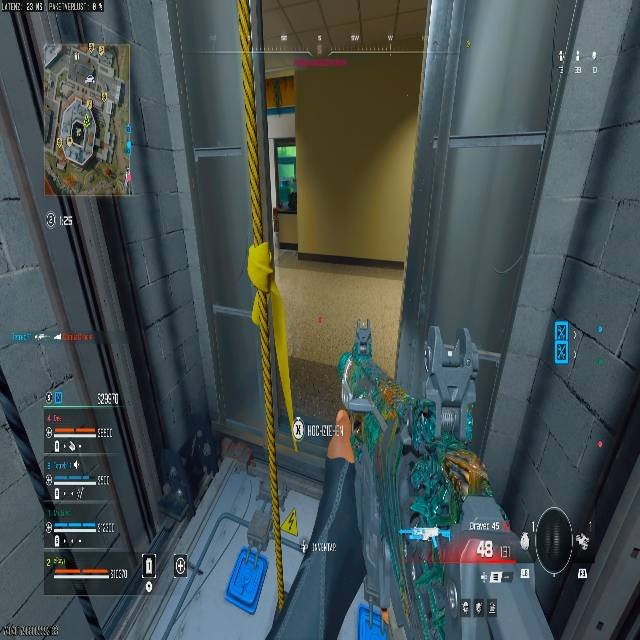head: (46, 6, 640, 634)
player: (352, 320, 373, 360)
